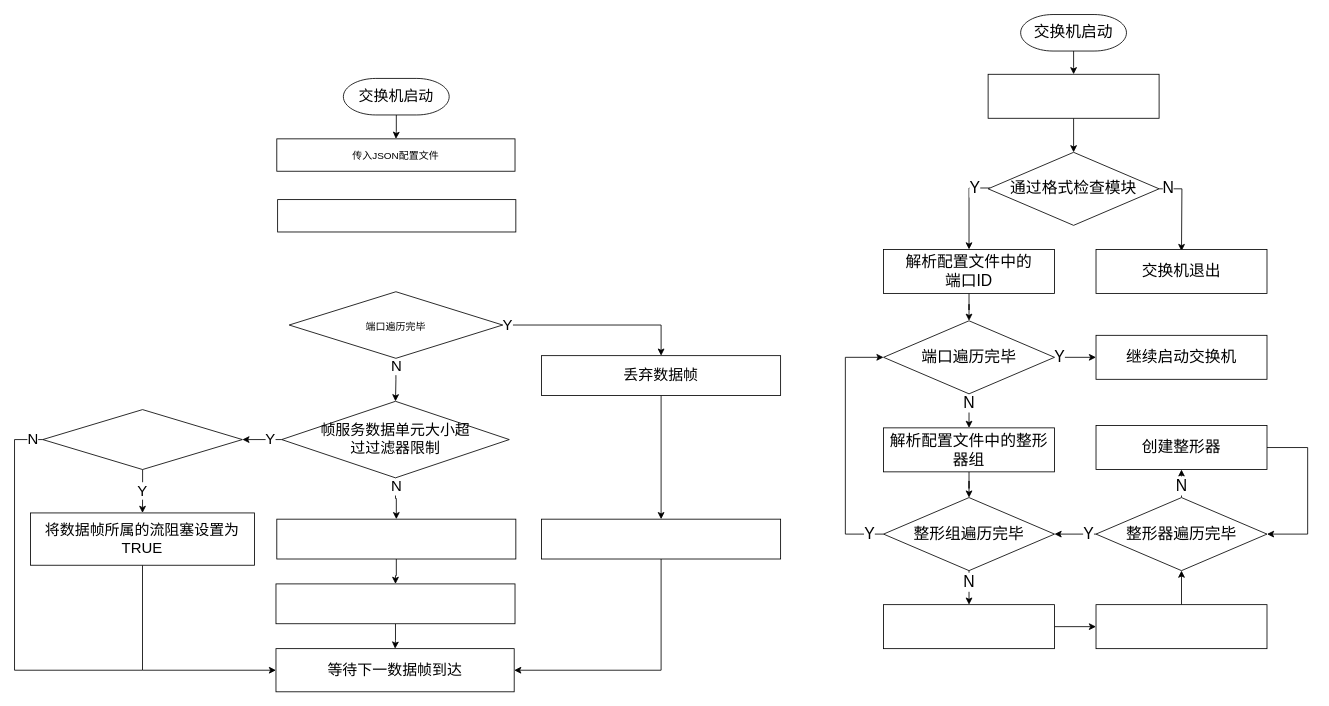
Image size: 1329x706. Some labels were removed from this diagram. Each missing label, with the centre of its shape:
"NotPassingSDUCount 计数器加一" goes at point (661, 538).
"PassingSDUCount 计数器加一" goes at point (396, 538).
"传入JSON配置文件" goes at point (1073, 95).
"创建整形器组" goes at point (969, 626).
"启用流阻塞功能为True" goes at point (142, 439).
"将数据帧传入后续组件" goes at point (395, 603).
"解析整形器组中的整形器" goes at point (1181, 626).
"解析配置文件中的端口ID" goes at point (396, 215).
